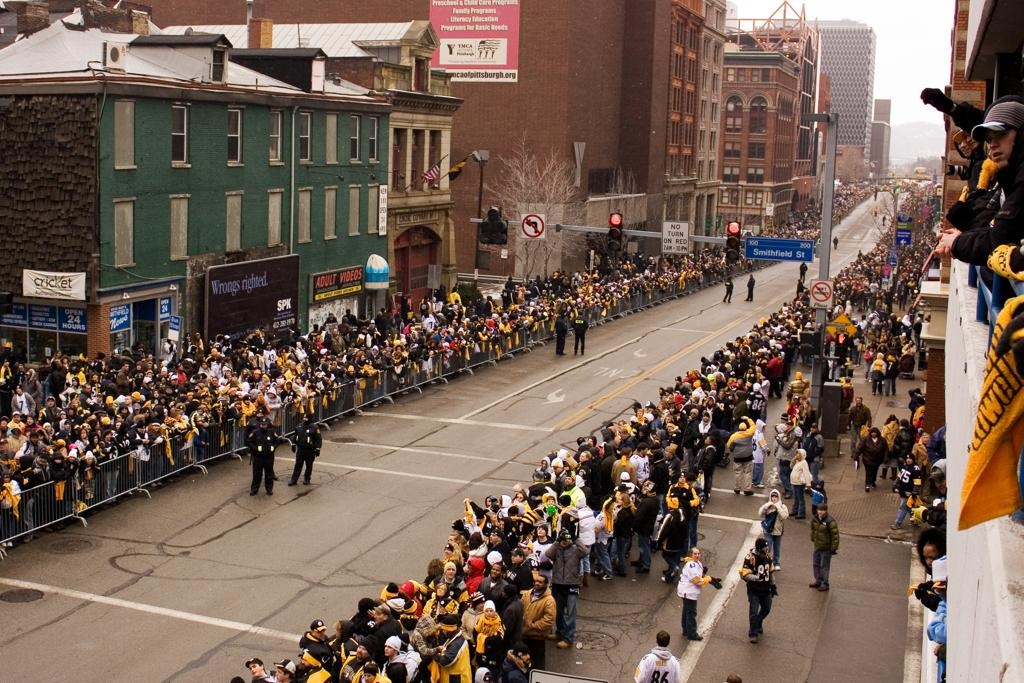human_face: (986, 126, 1016, 162), (922, 542, 940, 570), (964, 131, 980, 149), (956, 137, 970, 157), (301, 655, 313, 671), (274, 666, 286, 680), (356, 644, 368, 658), (374, 608, 384, 624), (250, 662, 260, 676), (534, 574, 544, 588), (491, 564, 501, 578), (445, 564, 455, 578), (520, 650, 530, 664), (315, 627, 325, 639), (442, 626, 452, 638), (510, 551, 520, 563), (336, 625, 344, 639), (484, 606, 494, 616), (436, 584, 446, 594), (364, 670, 372, 682), (384, 642, 392, 654), (444, 546, 452, 558), (36, 457, 46, 466), (520, 545, 528, 555), (447, 534, 455, 544), (537, 526, 545, 536), (466, 563, 474, 573), (476, 601, 484, 610), (516, 493, 524, 502), (564, 474, 572, 483), (560, 537, 568, 546), (692, 549, 698, 561), (934, 466, 942, 475), (546, 498, 554, 506), (553, 465, 561, 473), (759, 544, 767, 552), (770, 494, 778, 502), (664, 449, 672, 457), (259, 423, 267, 431), (46, 399, 54, 407), (104, 432, 112, 440), (0, 442, 8, 450), (490, 532, 496, 542), (116, 422, 122, 431), (486, 498, 492, 506), (499, 520, 505, 528), (579, 452, 585, 460), (678, 475, 684, 483), (804, 389, 810, 397), (256, 411, 262, 419), (142, 408, 148, 416), (262, 374, 268, 382), (302, 414, 308, 422), (27, 416, 33, 424), (2, 473, 8, 481), (816, 507, 822, 514), (704, 435, 710, 442), (665, 415, 671, 422), (922, 435, 928, 442), (152, 423, 158, 430), (12, 414, 18, 421), (80, 430, 86, 437), (124, 398, 130, 405), (205, 394, 211, 401), (656, 403, 662, 410), (636, 411, 642, 417), (702, 415, 708, 421), (906, 458, 912, 464), (586, 439, 592, 445), (814, 483, 820, 489), (138, 426, 144, 432), (152, 390, 158, 396), (172, 378, 178, 384), (268, 392, 274, 398), (276, 375, 282, 381), (256, 392, 262, 398), (31, 436, 37, 442), (45, 426, 51, 432), (60, 412, 66, 418), (92, 436, 98, 442), (85, 386, 91, 392), (130, 396, 136, 402), (175, 408, 181, 414), (68, 455, 74, 461), (84, 456, 90, 462), (290, 363, 296, 369), (542, 460, 546, 468), (690, 410, 694, 418), (618, 494, 622, 502), (119, 414, 123, 422), (2, 420, 6, 428), (96, 428, 100, 436), (254, 371, 260, 376), (176, 363, 182, 368), (856, 398, 860, 405), (212, 378, 216, 385), (64, 422, 68, 429), (642, 447, 646, 453), (667, 426, 673, 430), (870, 432, 876, 436), (810, 426, 814, 432), (796, 451, 800, 457), (804, 401, 808, 407), (799, 397, 803, 403), (120, 408, 126, 412), (198, 408, 202, 414), (136, 364, 140, 370), (160, 370, 166, 374), (244, 397, 248, 403), (226, 370, 230, 376), (243, 368, 247, 374), (232, 374, 236, 380), (210, 350, 216, 354), (286, 382, 290, 388), (296, 377, 300, 383), (307, 366, 311, 372), (16, 386, 20, 392), (36, 434, 42, 438), (68, 409, 72, 415), (72, 394, 76, 400), (72, 378, 76, 384), (62, 358, 68, 362), (18, 363, 22, 369), (152, 409, 156, 415), (198, 375, 202, 381), (255, 328, 259, 334), (146, 381, 150, 387), (786, 423, 790, 428), (708, 399, 712, 404), (134, 407, 138, 412), (124, 363, 128, 368), (780, 418, 784, 422), (188, 394, 192, 398), (202, 362, 206, 366), (147, 364, 151, 368), (148, 355, 152, 359), (266, 345, 270, 349), (57, 352, 61, 356), (92, 374, 96, 378), (186, 334, 190, 338), (195, 334, 199, 338), (260, 328, 264, 332), (148, 372, 150, 374)
